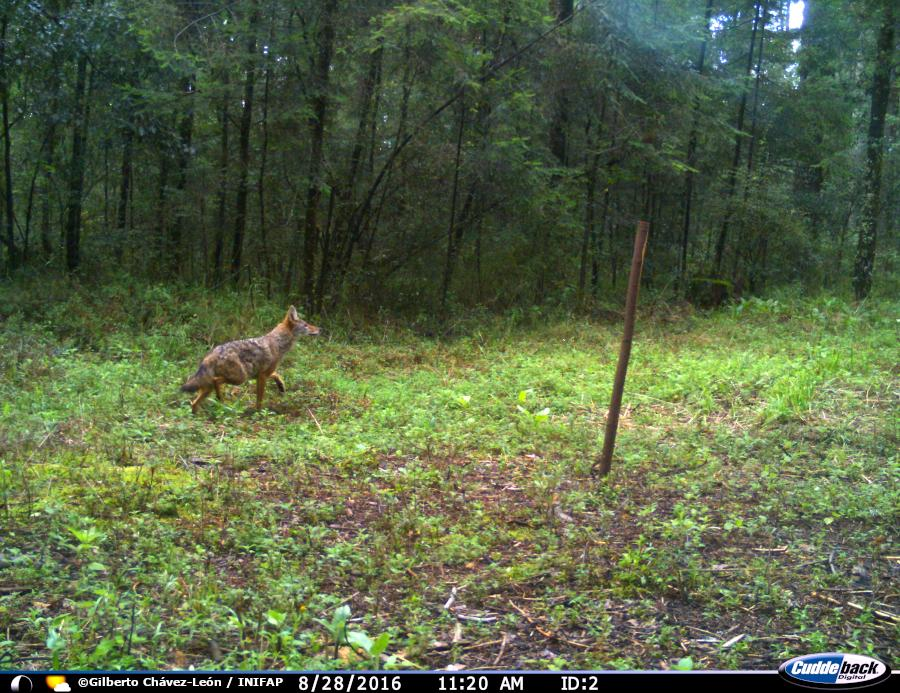Coyote: (177, 307, 326, 426)
